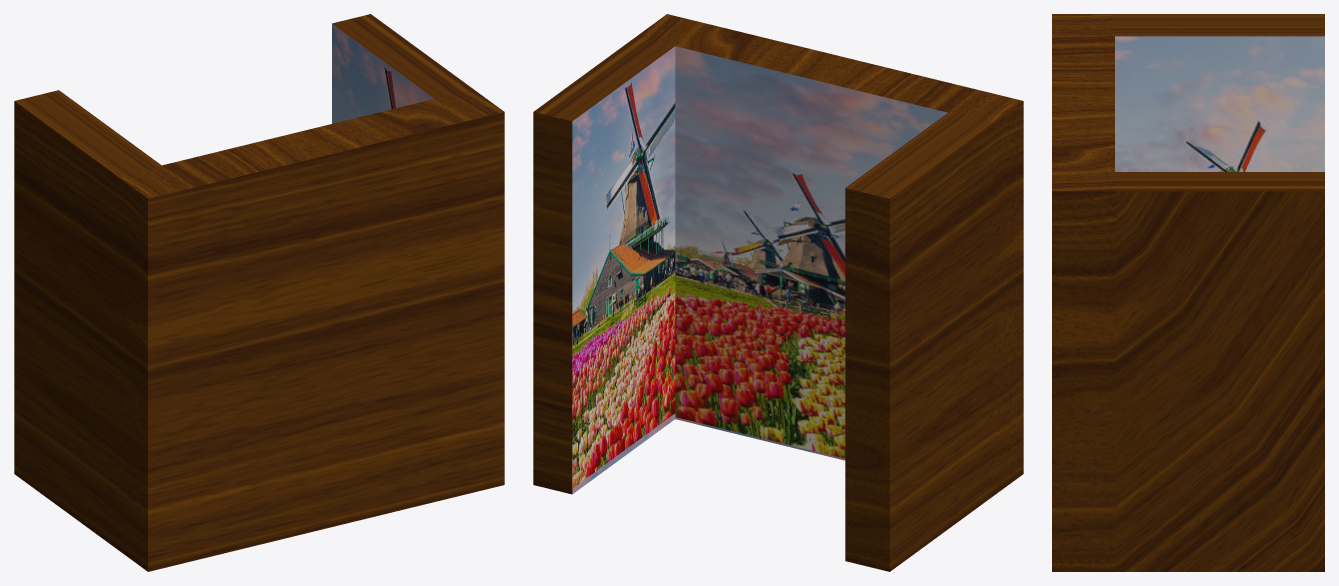
File: cubicle.glb
3 renders of one model, left to right at view 1: azimuth 30°, elevation 25°; view 2: azimuth 150°, elevation 25°; view 3: azimuth 270°, elevation 25°, orthographic. The views are drawn at different scales.
Parts seen in each view (by area): view 1: Cube; view 2: Cube; view 3: Cube.
Part boxes in pixels (bbox=[...]): Cube: bbox=[14, 14, 504, 571]; Cube: bbox=[533, 14, 1023, 571]; Cube: bbox=[1052, 14, 1324, 571].
Bounding box in the file's own units: 2 × 2 × 1.3.
2 materials, 2 textured.
